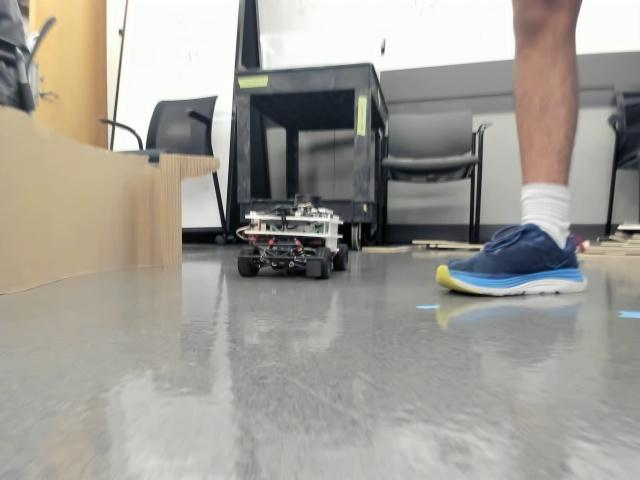Car: (238, 192, 347, 278)
